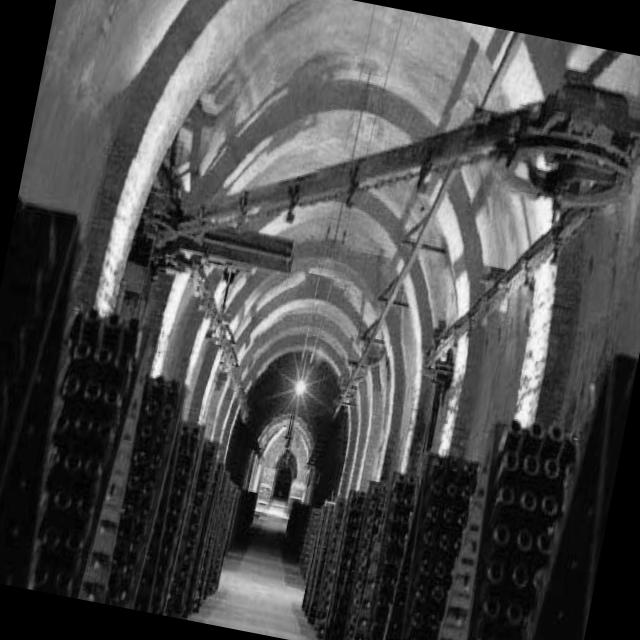2019: (0, 195, 258, 615), (286, 350, 640, 640)
door bars: (275, 459, 295, 497)
floor -X: (191, 493, 324, 640)
lamp crop: (295, 377, 307, 396)
vault: (21, 0, 640, 507)
wall clock: (249, 421, 315, 517)
